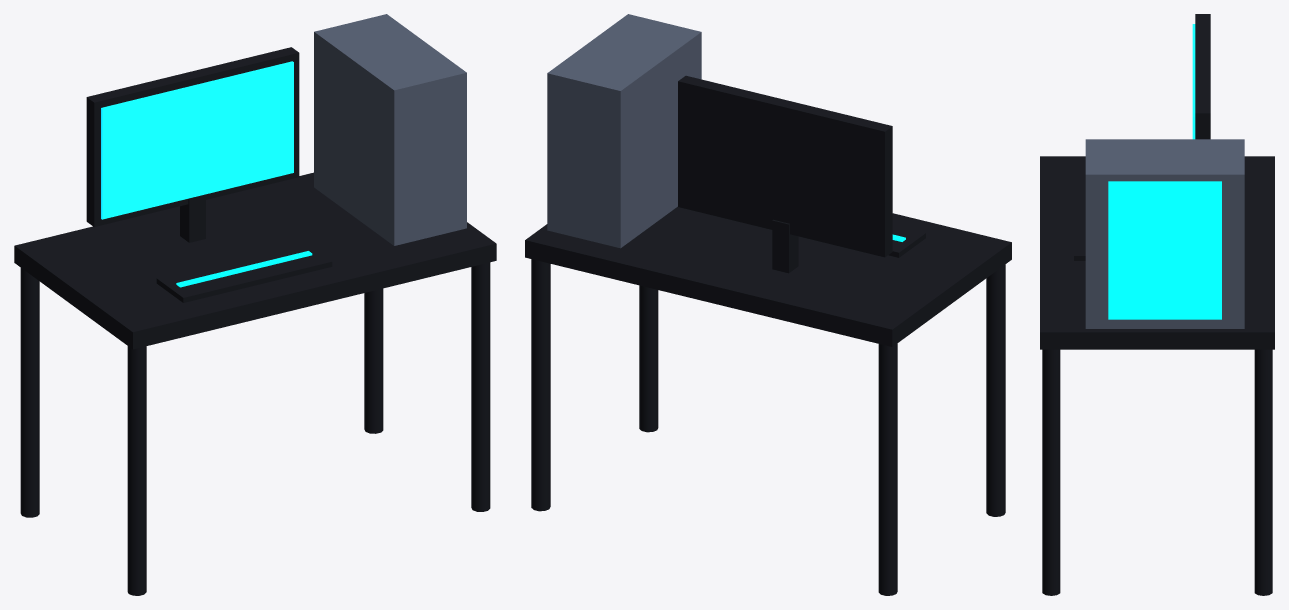
Rendered from pc_cool_0.glb.
3 views of the same model, side by side, from view 1: azimuth 30°, elevation 25°; view 2: azimuth 150°, elevation 25°; view 3: azimuth 270°, elevation 25° (orthographic).
Size of the model in its own units: 1.1 by 1.24 by 0.62.
